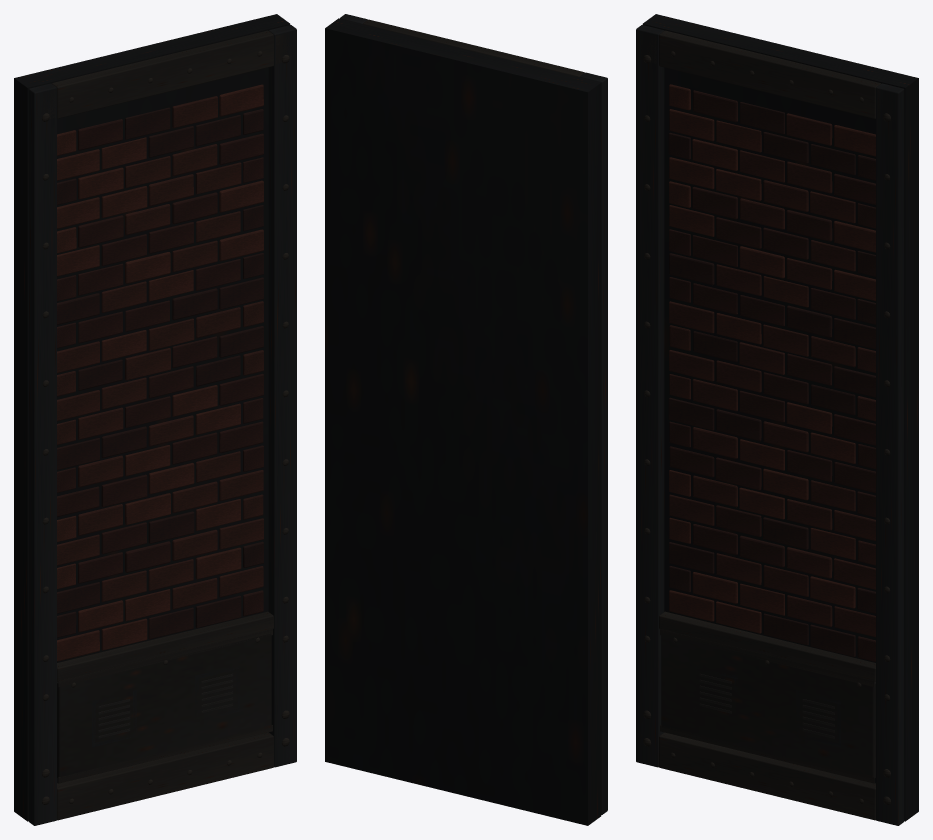
The model's file is STK_ENV_Street_Wall_1p2_A_Production_v6.glb.
3 views of the same model, side by side, from view 1: azimuth 30°, elevation 25°; view 2: azimuth 150°, elevation 25°; view 3: azimuth 330°, elevation 25° (orthographic).
Visible parts, largest first — view 1: WallCore, Frame_Left, Frame_Right, ServicePanel, Frame_Header, Frame_Footer, Brick_LowerTrim, ServicePanel_BottomLip, ServicePanel_TopLip, Brick_06_01, Brick_04_02, Brick_00_03 (+85 smaller); view 2: WallCore, Frame_Left, Frame_Header; view 3: WallCore, Frame_Right, Frame_Left, ServicePanel, Frame_Header, Frame_Footer, Brick_LowerTrim, ServicePanel_BottomLip, ServicePanel_TopLip, Brick_06_01, Brick_08_00, Brick_11_02 (+87 smaller).
Boxes of the visible parts, <box> form: WallCore: <box>14,14,290,821</box>; Frame_Left: <box>28,83,56,825</box>; Frame_Right: <box>268,25,296,767</box>; ServicePanel: <box>57,633,271,778</box>; Frame_Header: <box>52,30,273,118</box>; Frame_Footer: <box>57,732,273,820</box>; Brick_LowerTrim: <box>57,611,273,681</box>; ServicePanel_BottomLip: <box>58,725,272,783</box>; ServicePanel_TopLip: <box>58,629,272,687</box>; Brick_06_01: <box>101,474,147,507</box>; Brick_04_02: <box>148,511,194,543</box>; Brick_00_03: <box>195,595,241,628</box>; WallCore: <box>325,18,601,825</box>; Frame_Left: <box>580,72,607,814</box>; Frame_Header: <box>363,19,584,76</box>; WallCore: <box>642,14,918,821</box>; Frame_Right: <box>876,83,904,825</box>; Frame_Left: <box>636,25,664,767</box>; ServicePanel: <box>661,633,875,778</box>; Frame_Header: <box>659,30,880,118</box>; Frame_Footer: <box>659,732,875,820</box>; Brick_LowerTrim: <box>659,611,875,681</box>; ServicePanel_BottomLip: <box>660,725,874,783</box>; ServicePanel_TopLip: <box>660,629,874,687</box>; Brick_06_01: <box>715,457,761,490</box>; Brick_08_00: <box>668,397,714,430</box>; Brick_11_02: <box>739,342,784,374</box>.
Size of the model in its own units: 1.2 by 3.2 by 0.167.
Materials: 12 (12 with a texture image).
